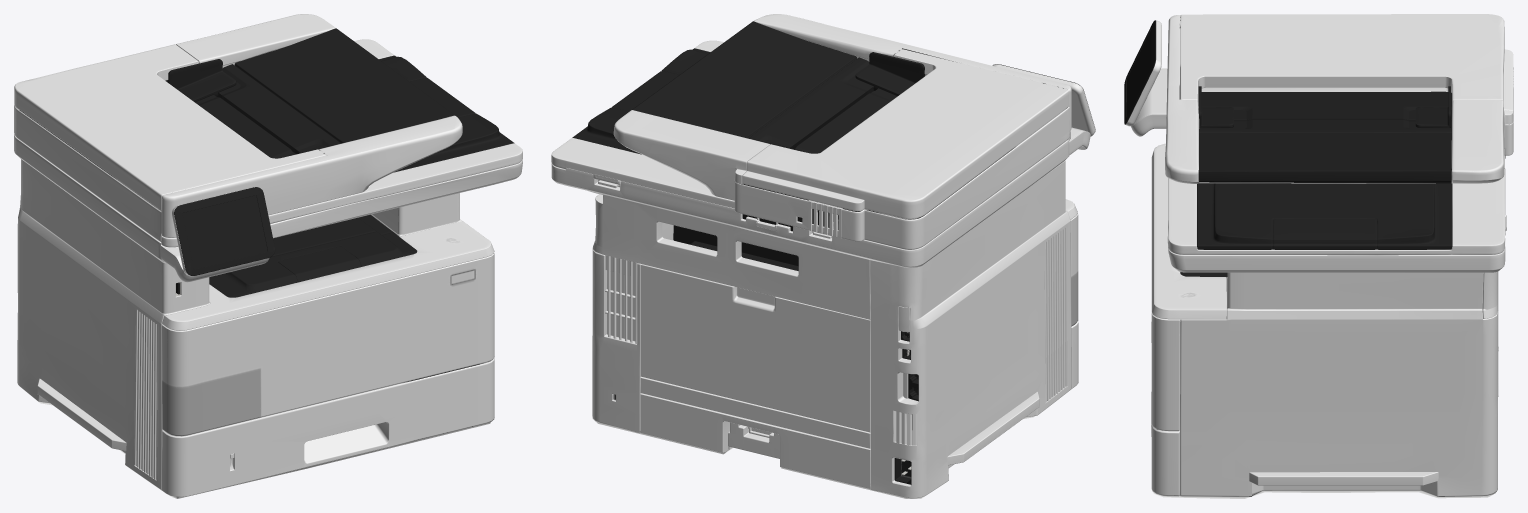
The model's file is dev-printer-laser.glb.
3 views of the same model, side by side, from view 1: azimuth 30°, elevation 25°; view 2: azimuth 150°, elevation 25°; view 3: azimuth 270°, elevation 25° (orthographic). The views are drawn at different scales.
Visible parts, largest first — view 1: body; view 2: body; view 3: body.
Part boxes in pixels (box(x1,y1,x2,y2)): body: box(14, 14, 522, 498); body: box(551, 14, 1095, 498); body: box(1124, 14, 1513, 498).
Bounding box in the file's own units: 0.4432 × 0.3386 × 0.3781.
1 material, 1 textured.
